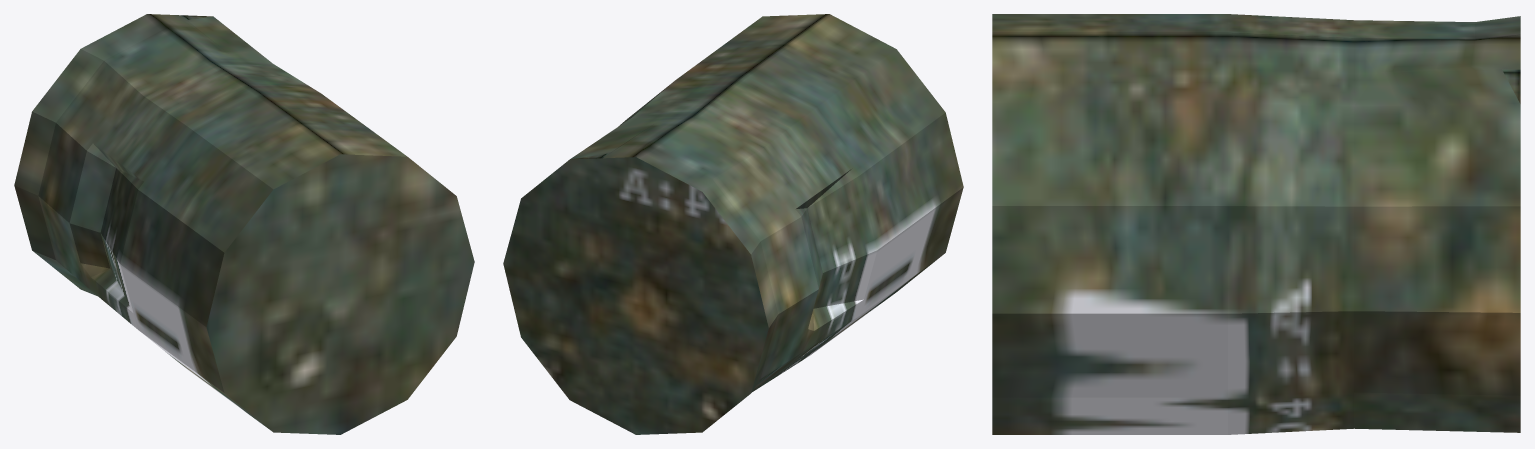
File: drumbarrel240_wtf.obj
The picture shows the model from 3 angles, left to right: view 1: azimuth 30°, elevation 25°; view 2: azimuth 150°, elevation 25°; view 3: azimuth 270°, elevation 25°; orthographic projection. The views are drawn at different scales.
Visible parts, largest first — view 1: group2, group3; view 2: group2, group4; view 3: group2.
Boxes of the visible parts, <box> form: group2: <box>14,14,406,430</box>; group3: <box>206,154,474,434</box>; group2: <box>570,14,963,392</box>; group4: <box>503,157,768,434</box>; group2: <box>992,14,1520,434</box>.
Size of the model in its own units: 528 by 528 by 660.
